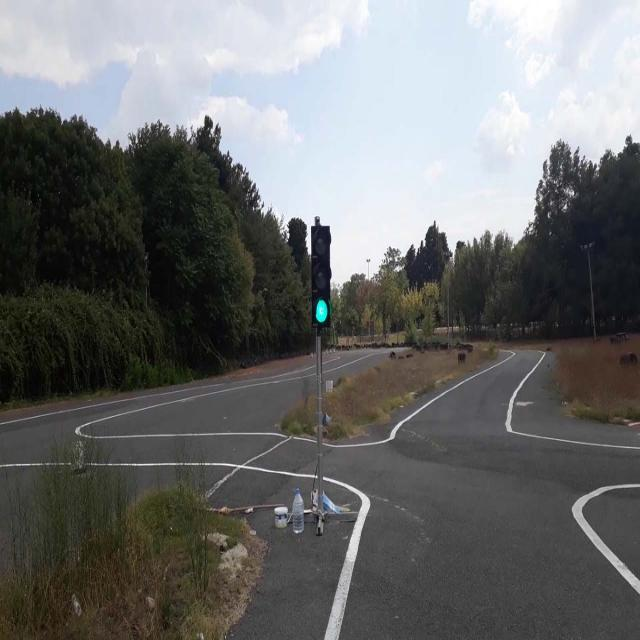yesil: (313, 222, 331, 326)
